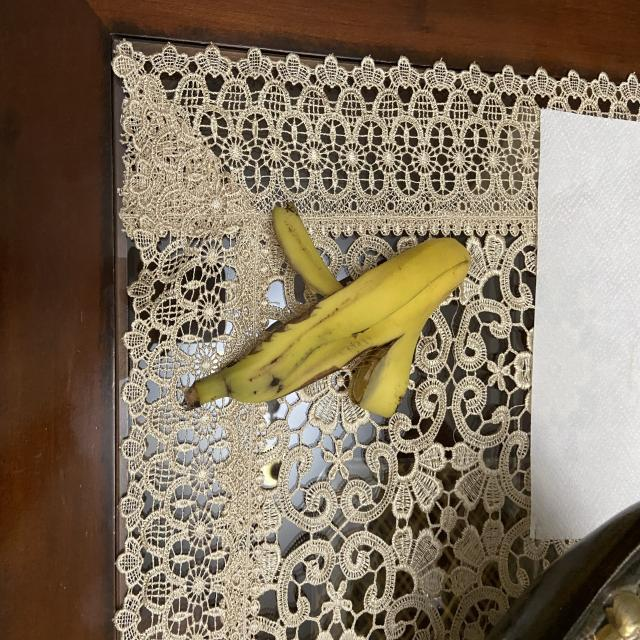banana-peel: (182, 203, 470, 418)
